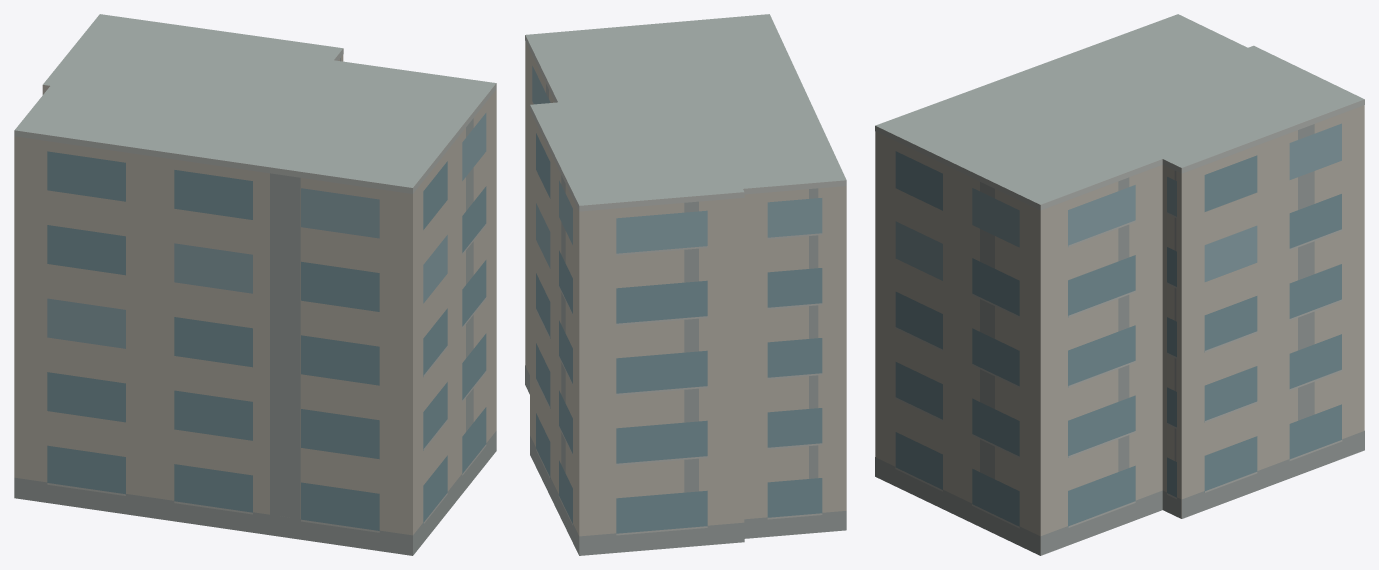
File: survey-upis-32962693.glb
3 renders of one model, left to right at view 1: azimuth 30°, elevation 25°; view 2: azimuth 150°, elevation 25°; view 3: azimuth 270°, elevation 25°, orthographic. The views are drawn at different scales.
Parts seen in each view (by area): view 1: survey-upis-32962693.tmp; view 2: survey-upis-32962693.tmp; view 3: survey-upis-32962693.tmp.
Part boxes in pixels (x1,y1,x2,y2): survey-upis-32962693.tmp: [14, 14, 496, 555]; survey-upis-32962693.tmp: [525, 14, 846, 555]; survey-upis-32962693.tmp: [875, 14, 1364, 555].
Size of the model in its own units: 17.44 by 14.95 by 18.91.
